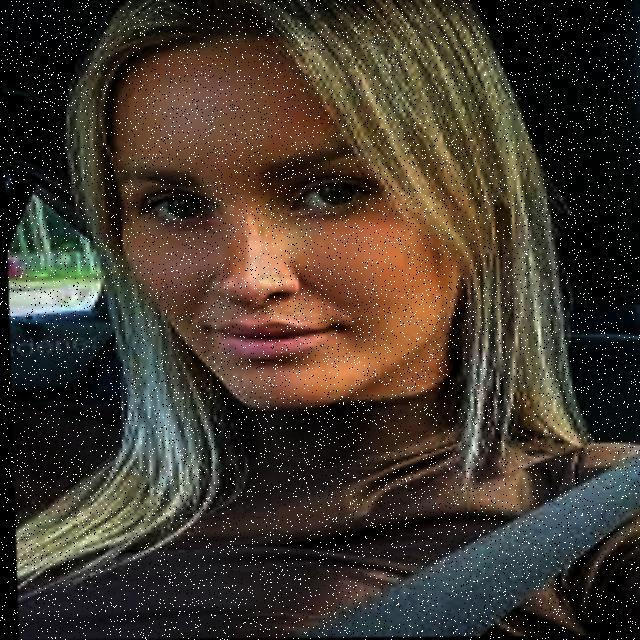seatbelt: (232, 402, 640, 638)
